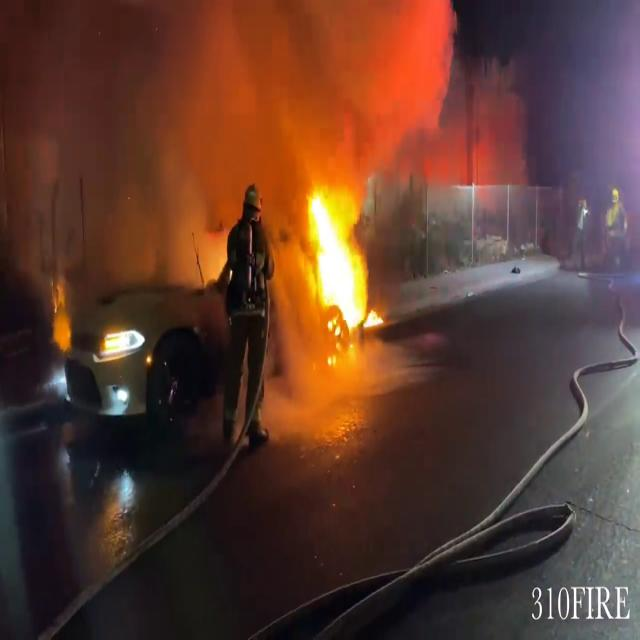Fire: (296, 180, 382, 352)
Smoke: (2, 0, 449, 223)
